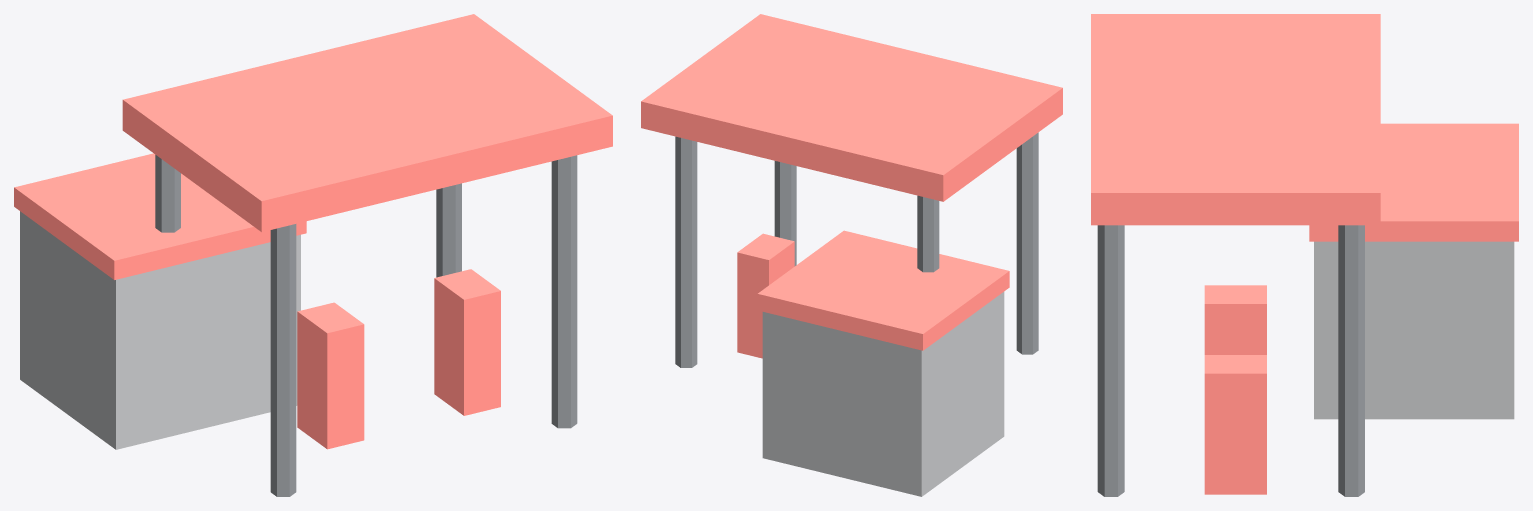
File: gasstation.glb
3 renders of one model, left to right at view 1: azimuth 30°, elevation 25°; view 2: azimuth 150°, elevation 25°; view 3: azimuth 270°, elevation 25°, orthographic. The views are drawn at different scales.
Visible parts, largest first — view 1: gasstation; view 2: gasstation; view 3: gasstation.
Boxes of the visible parts, box(x1,y1,x2,y2) form: gasstation: box(14, 14, 612, 496); gasstation: box(641, 14, 1062, 496); gasstation: box(1091, 14, 1518, 496).
Bounding box in the file's own units: 1.06 × 0.82 × 0.96.
